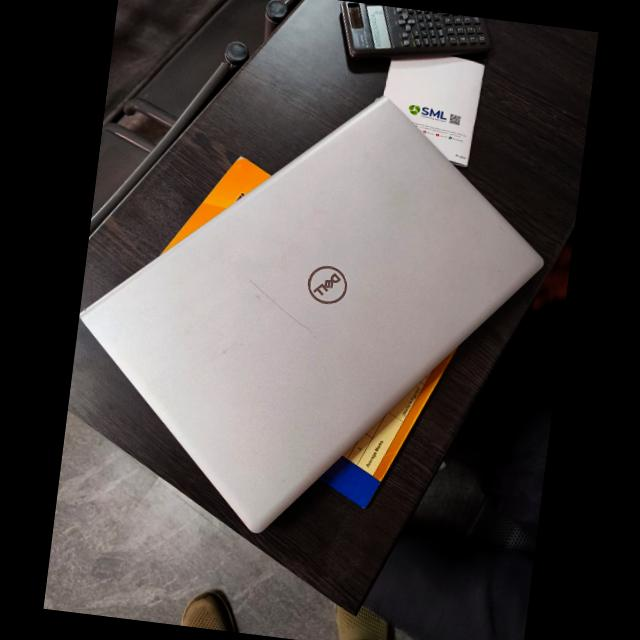laptop: (78, 96, 542, 532)
